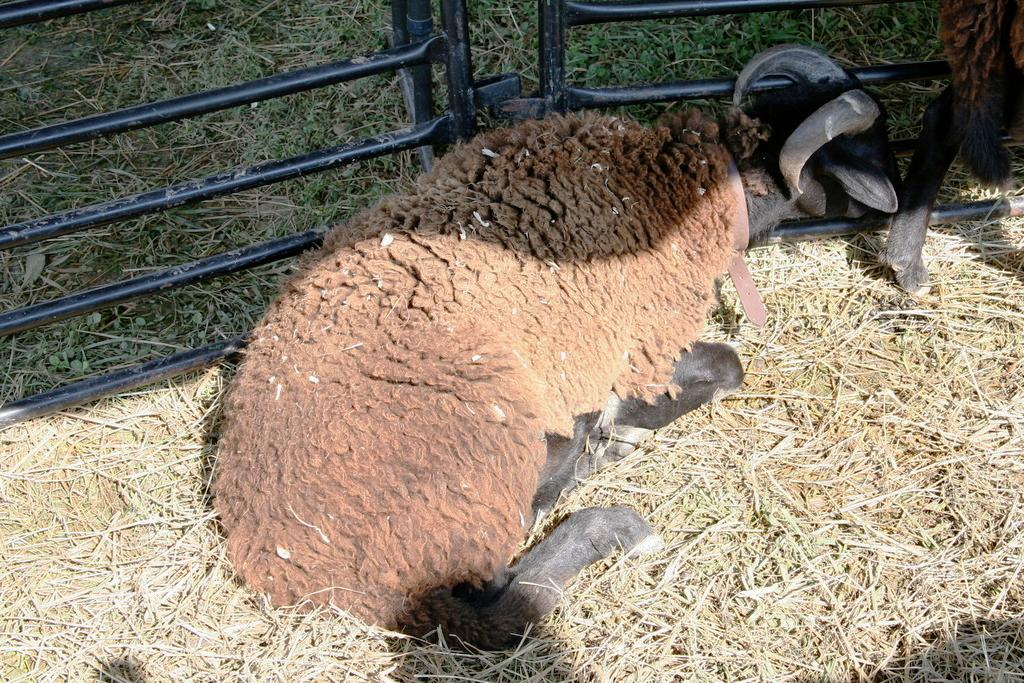Sheep: (192, 41, 912, 668), (862, 0, 1024, 286)
